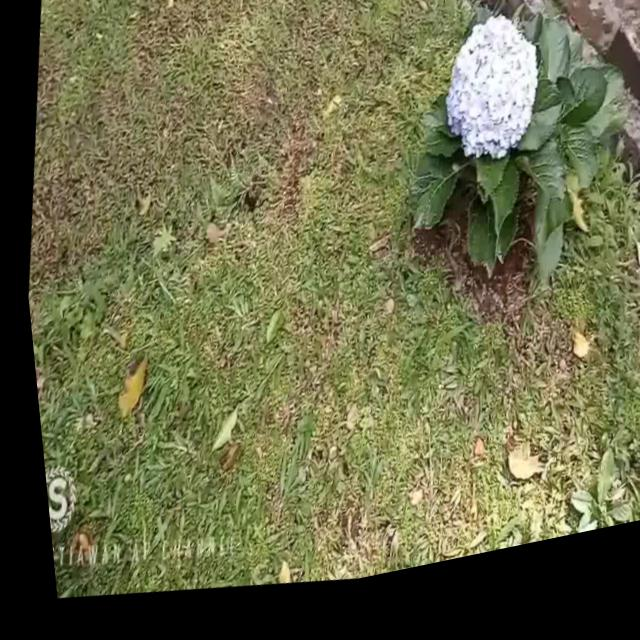Flower: (428, 21, 552, 203)
